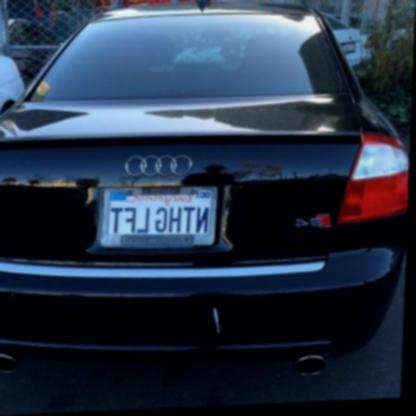License_Plate: (100, 183, 217, 250)
